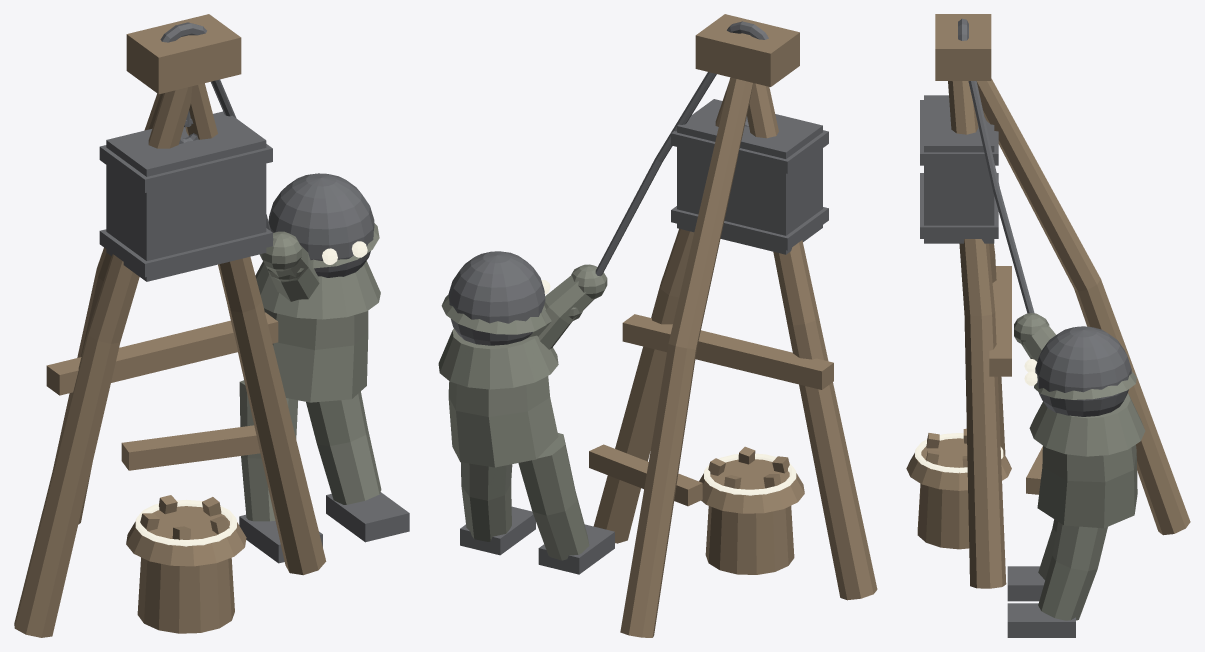
Rendered from rammer.glb.
3 renders of one model, left to right at view 1: azimuth 30°, elevation 25°; view 2: azimuth 150°, elevation 25°; view 3: azimuth 270°, elevation 25°, orthographic. The views are drawn at different scales.
Visible parts, largest first — view 1: rammer_bone, rammer_dark, rammer_body, rammer_glow; view 2: rammer_bone, rammer_dark, rammer_body, rammer_glow; view 3: rammer_bone, rammer_dark, rammer_body, rammer_glow.
Part boxes in pixels (<box>): rammer_bone: <box>14,14,326,637</box>; rammer_dark: <box>99,22,409,563</box>; rammer_body: <box>239,223,381,521</box>; rammer_glow: <box>135,241,367,546</box>; rammer_bone: <box>589,14,877,637</box>; rammer_dark: <box>448,21,828,574</box>; rammer_body: <box>438,264,607,560</box>; rammer_glow: <box>541,280,796,495</box>; rammer_bone: <box>906,14,1190,588</box>; rammer_dark: <box>920,18,1131,637</box>; rammer_body: <box>1014,313,1145,620</box>; rammer_glow: <box>915,359,1037,473</box>.
Size of the model in its own units: 2.03 by 2.75 by 1.39.
